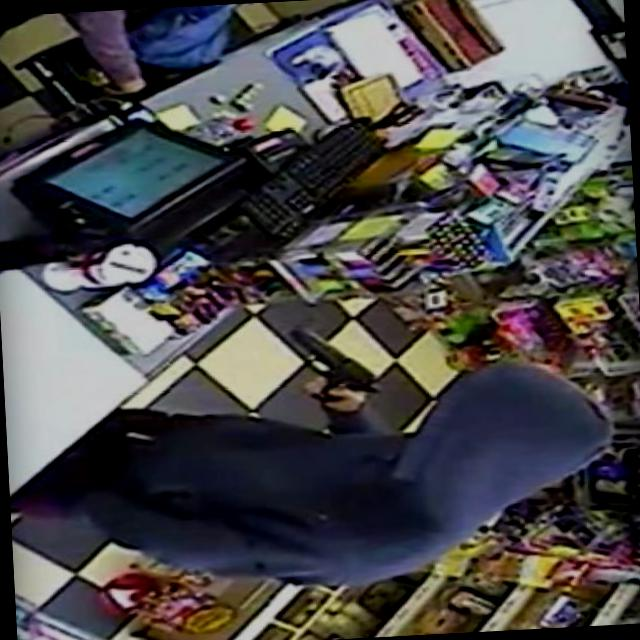handgun: (283, 324, 387, 404)
